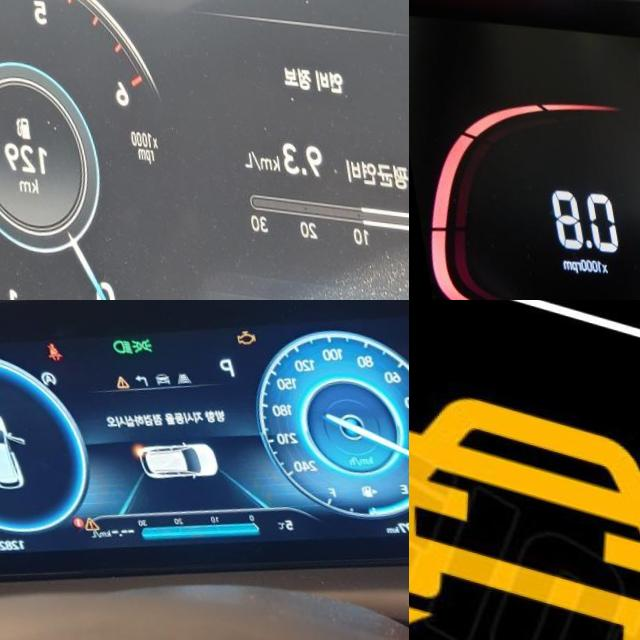Central Warning lamp: (106, 368, 125, 384)
LaneCenteringOff: (168, 364, 187, 379)
Low beam: (105, 331, 129, 351)
SideLamp: (124, 329, 150, 350)
